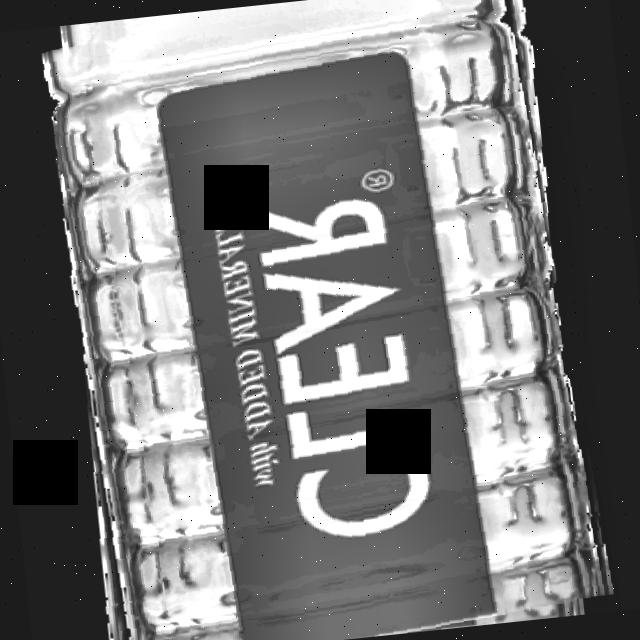bottle: (38, 0, 609, 640)
